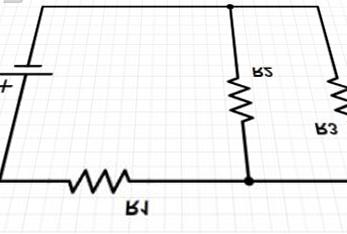Battery: (0, 51, 56, 98)
